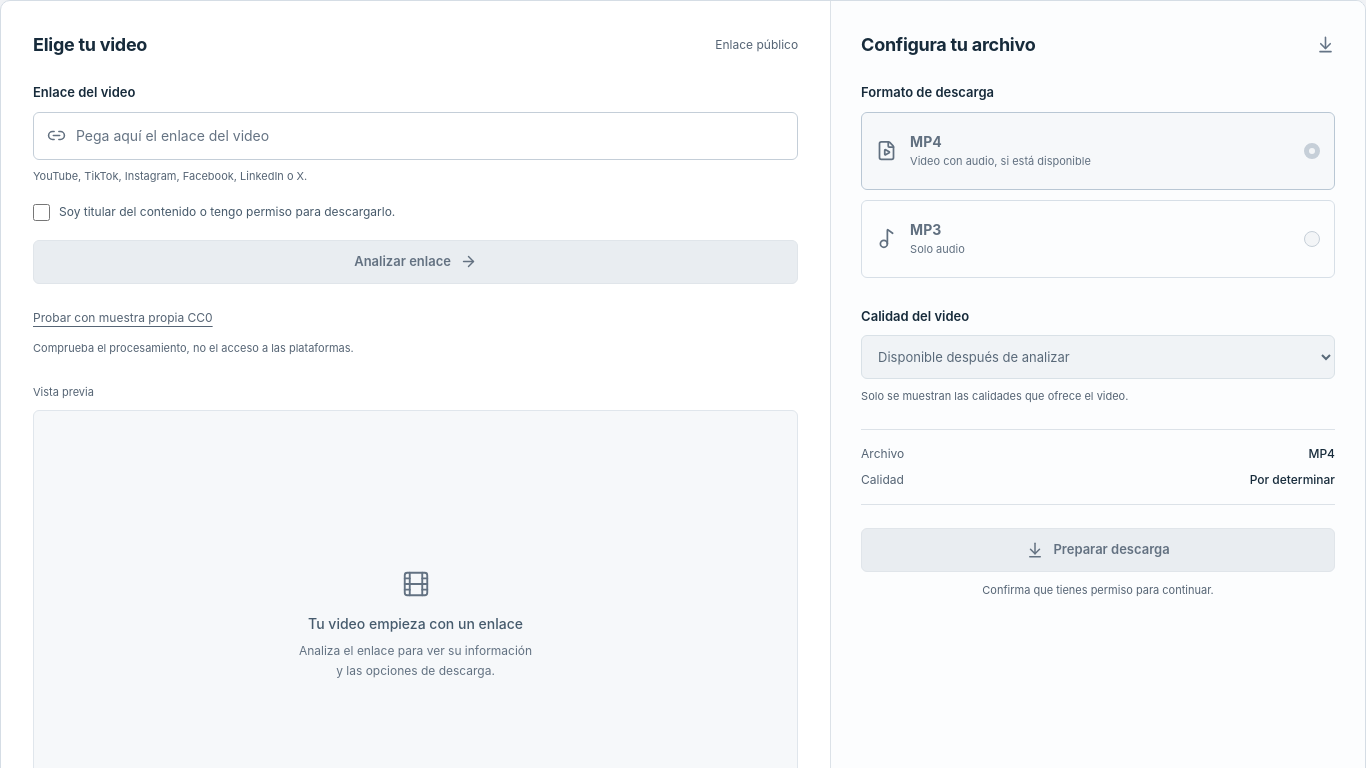
Export desk › shows API errors and permits retry
In the field labelled "Enlace del video": (430, 136) [76,112,784,158], type "https://www.youtube.com/watch?v=example"
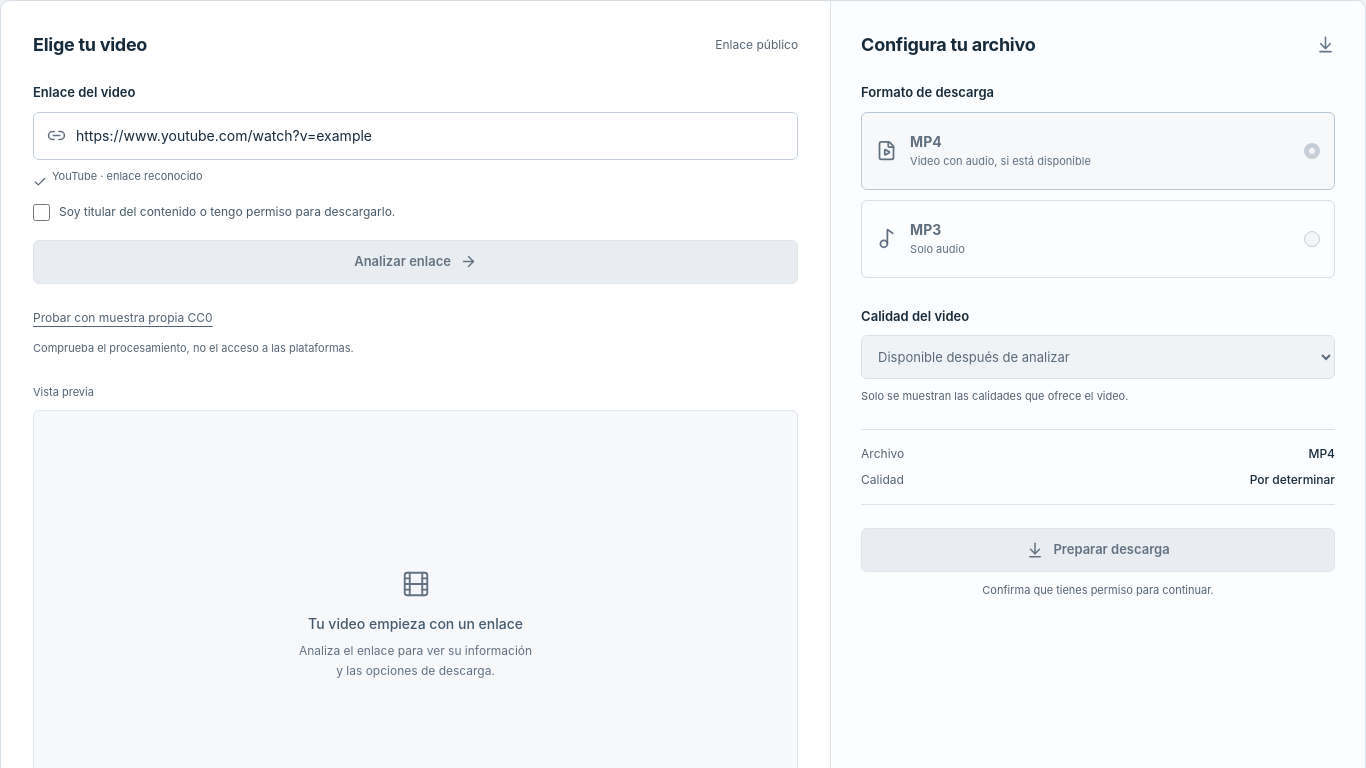
Click the checkbox: (42, 212) [33,204,50,220]
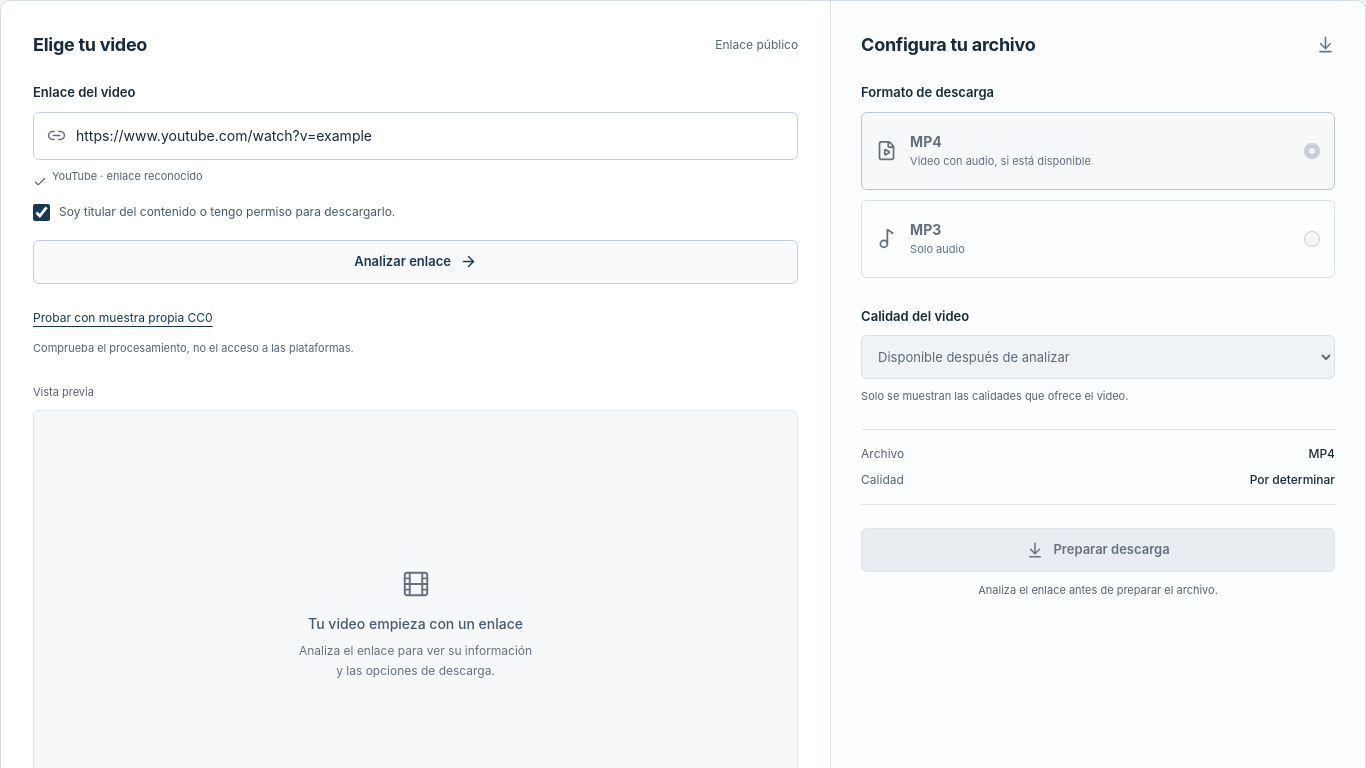
Click the button "Analizar enlace": (416, 262) [33,240,798,284]
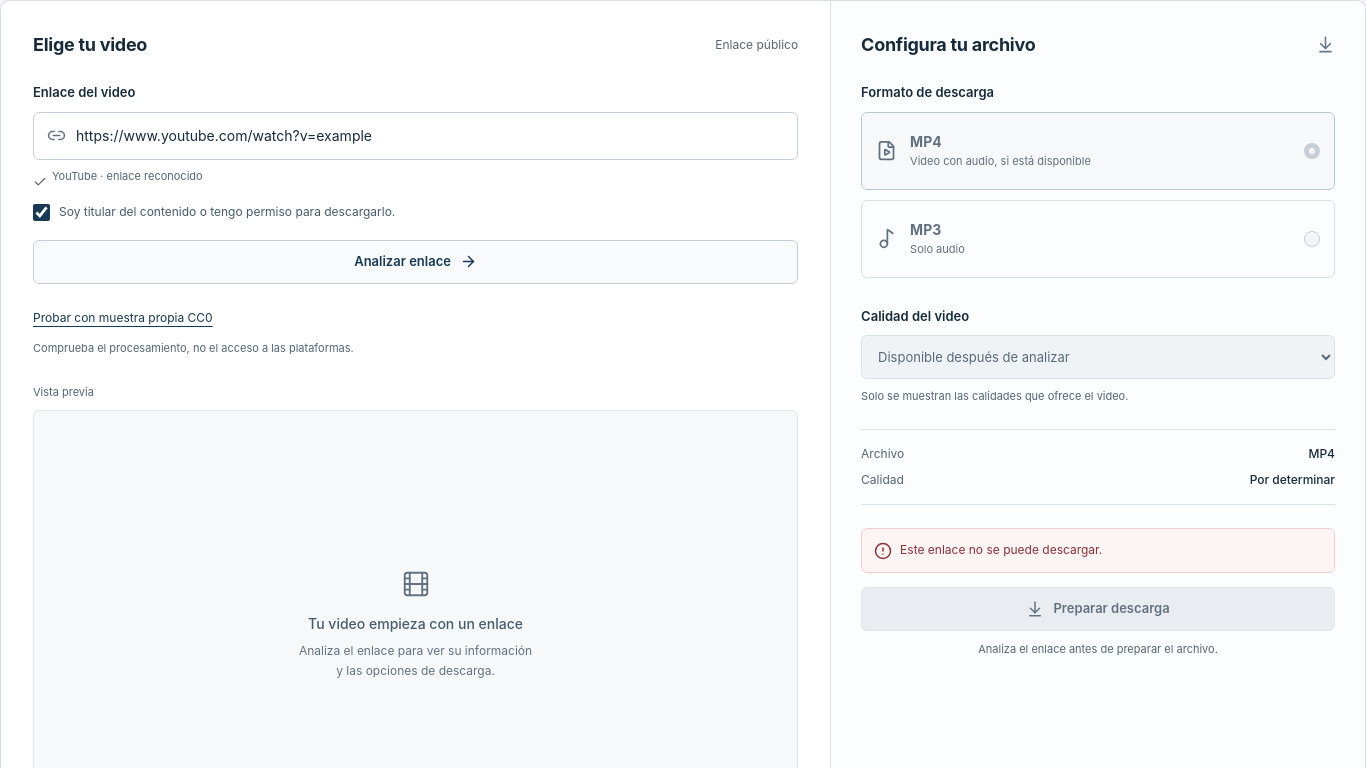
Expected: the button "Analizar enlace" is enabled, [33,240,798,284]
Expected: the message reads "Este enlace no se puede descargar.", [900,542,1102,556]
